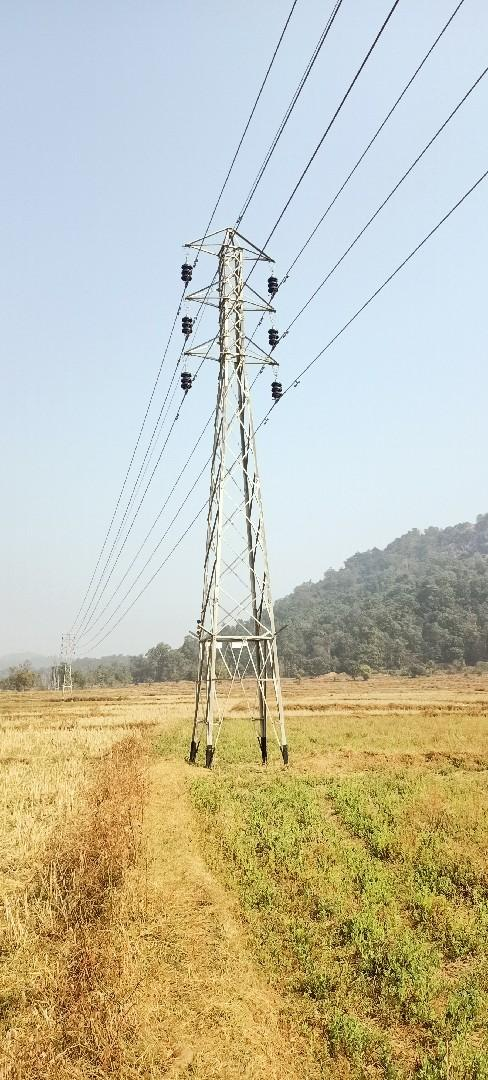GSM Antenna: (166, 222, 293, 739)
